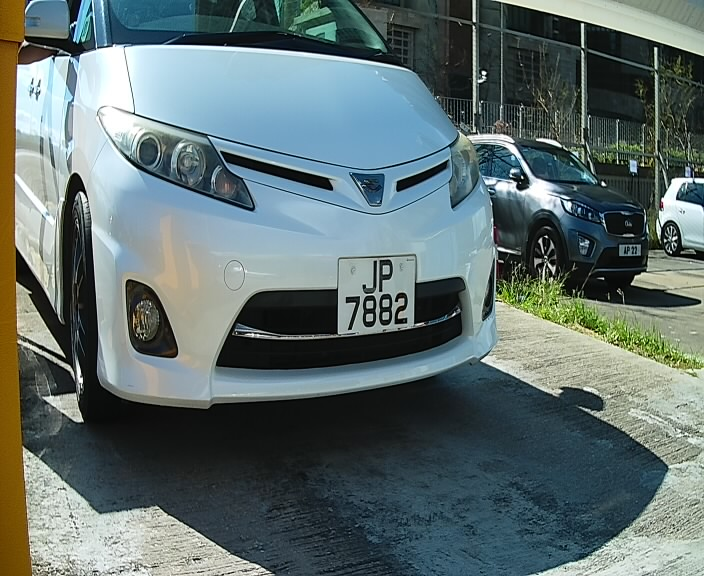License Plate: (332, 249, 428, 343)
